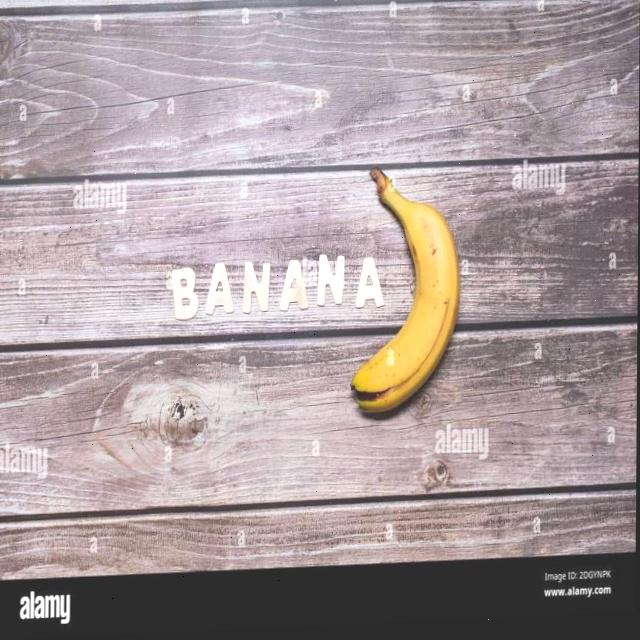banana: (350, 156, 466, 427)
